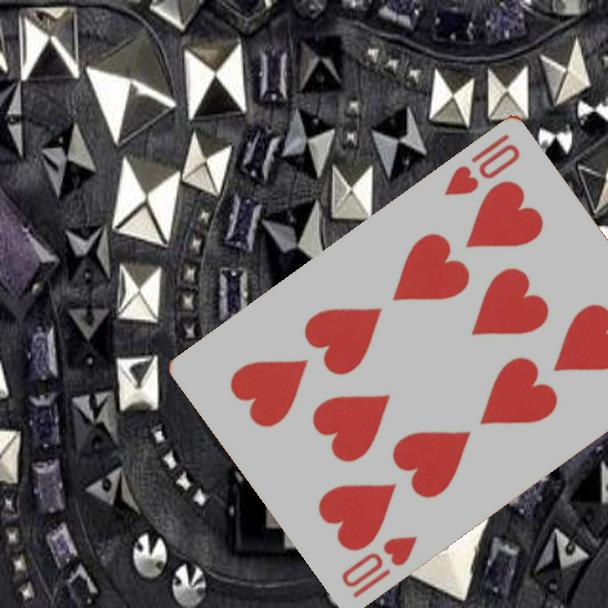h10: (440, 129, 524, 199), (337, 531, 420, 601)
